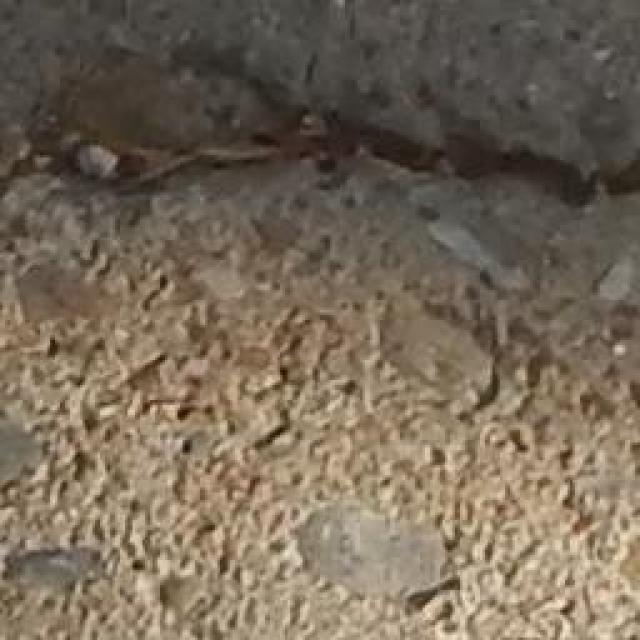concrete-crack: (0, 90, 640, 213)
